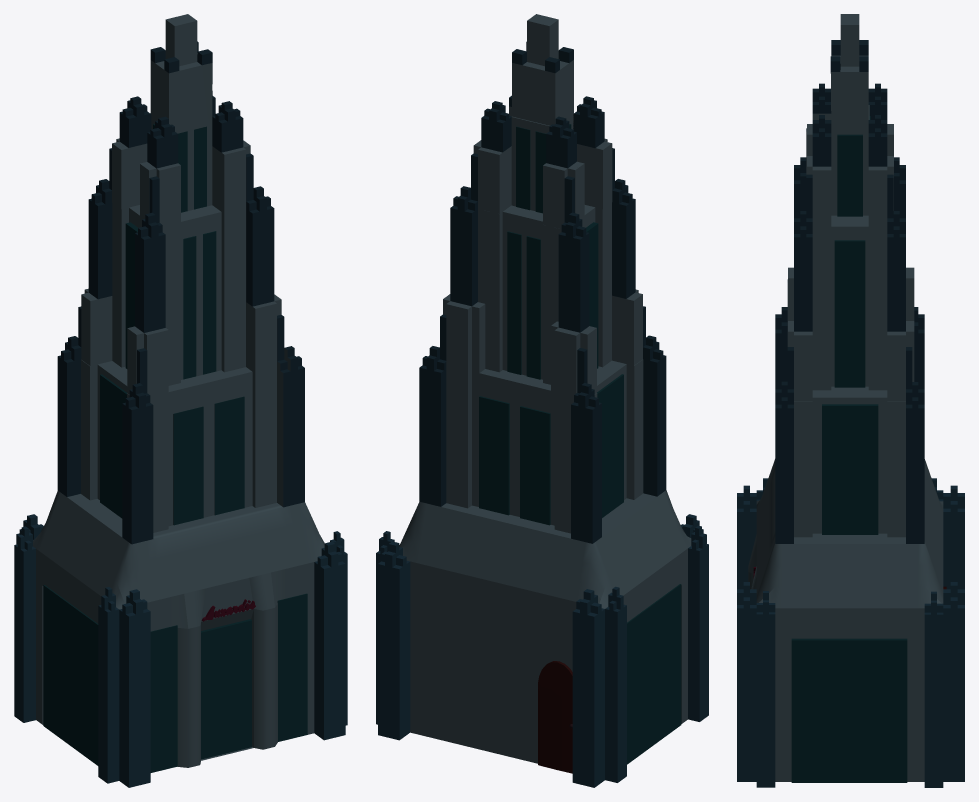
Rendered from Hotel_Fenster_Schrift Comb.fbx.
The picture shows the model from 3 angles, left to right: view 1: azimuth 30°, elevation 25°; view 2: azimuth 150°, elevation 25°; view 3: azimuth 270°, elevation 25°; orthographic projection.
Parts seen in each view (by area): view 1: pCube36; view 2: pCube36; view 3: pCube36.
Part boxes in pixels (x1=…): pCube36: x1=14, y1=14, x2=347, y2=787; pCube36: x1=376, y1=14, x2=708, y2=787; pCube36: x1=737, y1=14, x2=964, y2=787.
Size of the model in its own units: 718 by 1987 by 579.
